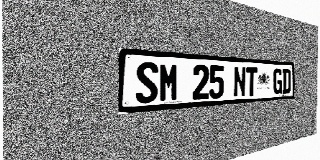2: (193, 64, 209, 100)
5: (209, 65, 224, 99)
D: (282, 69, 291, 94)
G: (273, 68, 282, 95)
M: (159, 63, 179, 102)
N: (233, 66, 246, 97)
S: (136, 61, 158, 104)
T: (246, 67, 257, 96)
